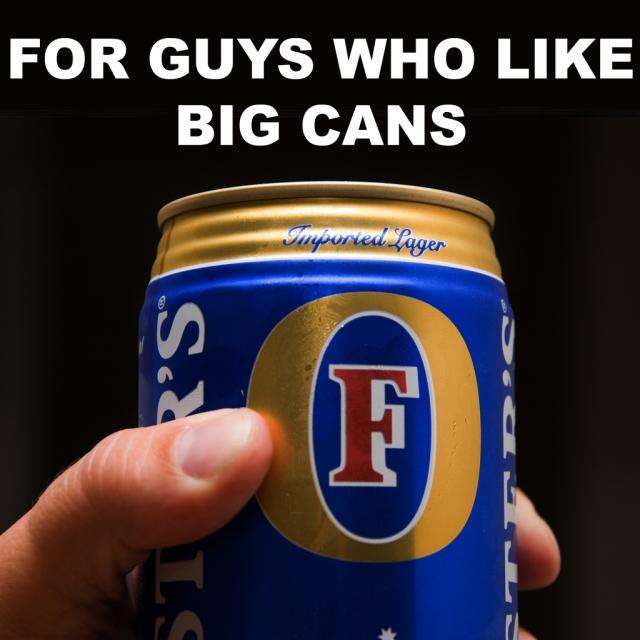fosters: (245, 289, 486, 565)
